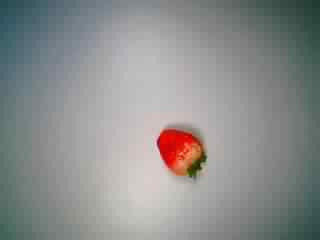strawberry: (147, 119, 213, 181)
